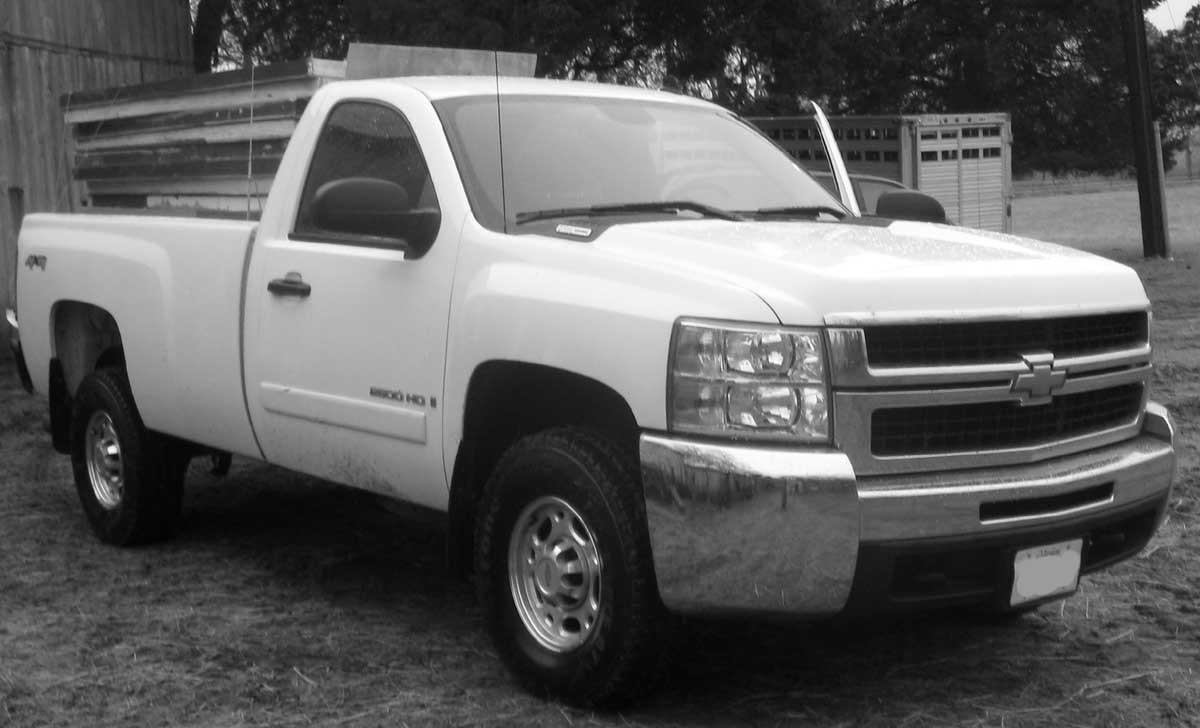car: (6, 8, 1182, 705)
